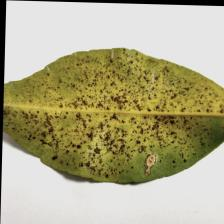canker: (54, 68, 193, 176)
